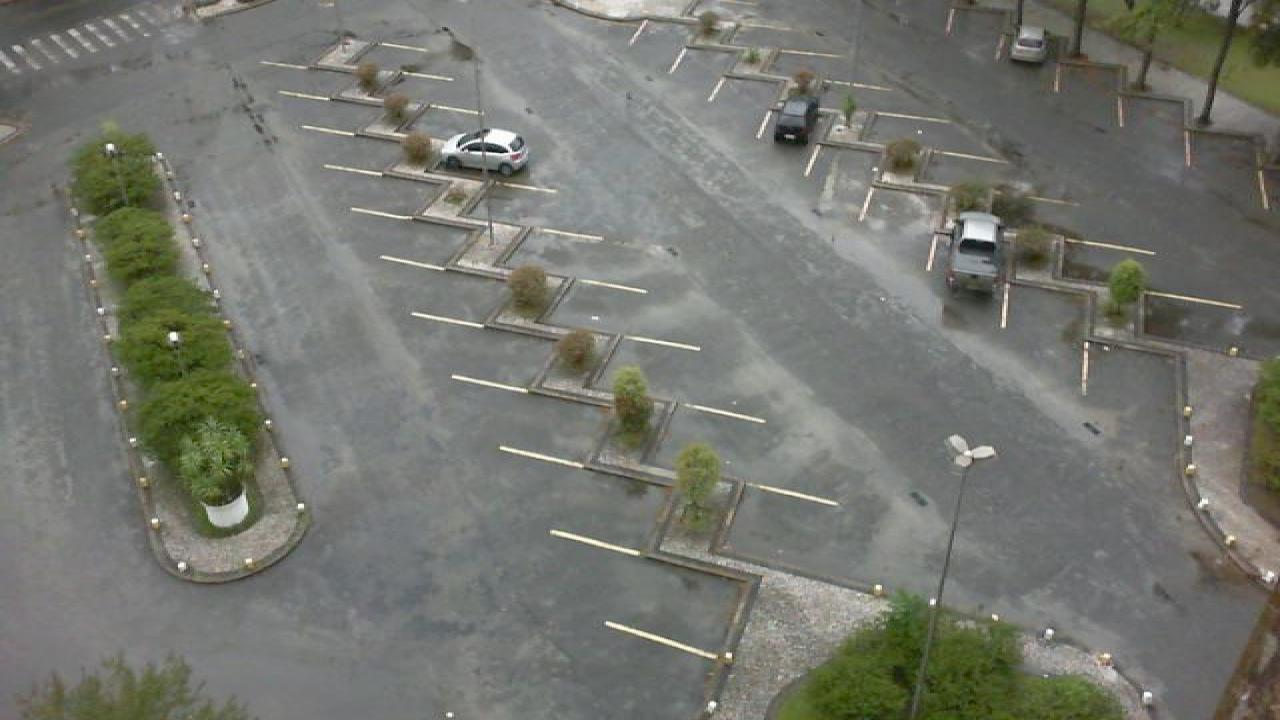Car: (944, 210, 1006, 292), (440, 127, 530, 177), (772, 94, 820, 146), (1006, 24, 1050, 65)
